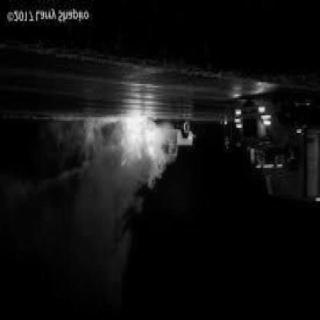Smoke: (77, 142, 136, 264)
